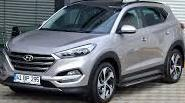Crossovers: (1, 2, 185, 103)
